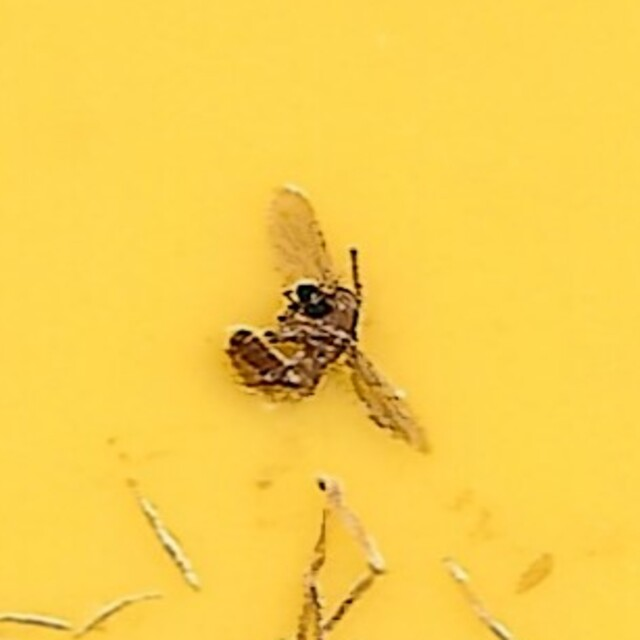Nematocera: (208, 183, 432, 457)
